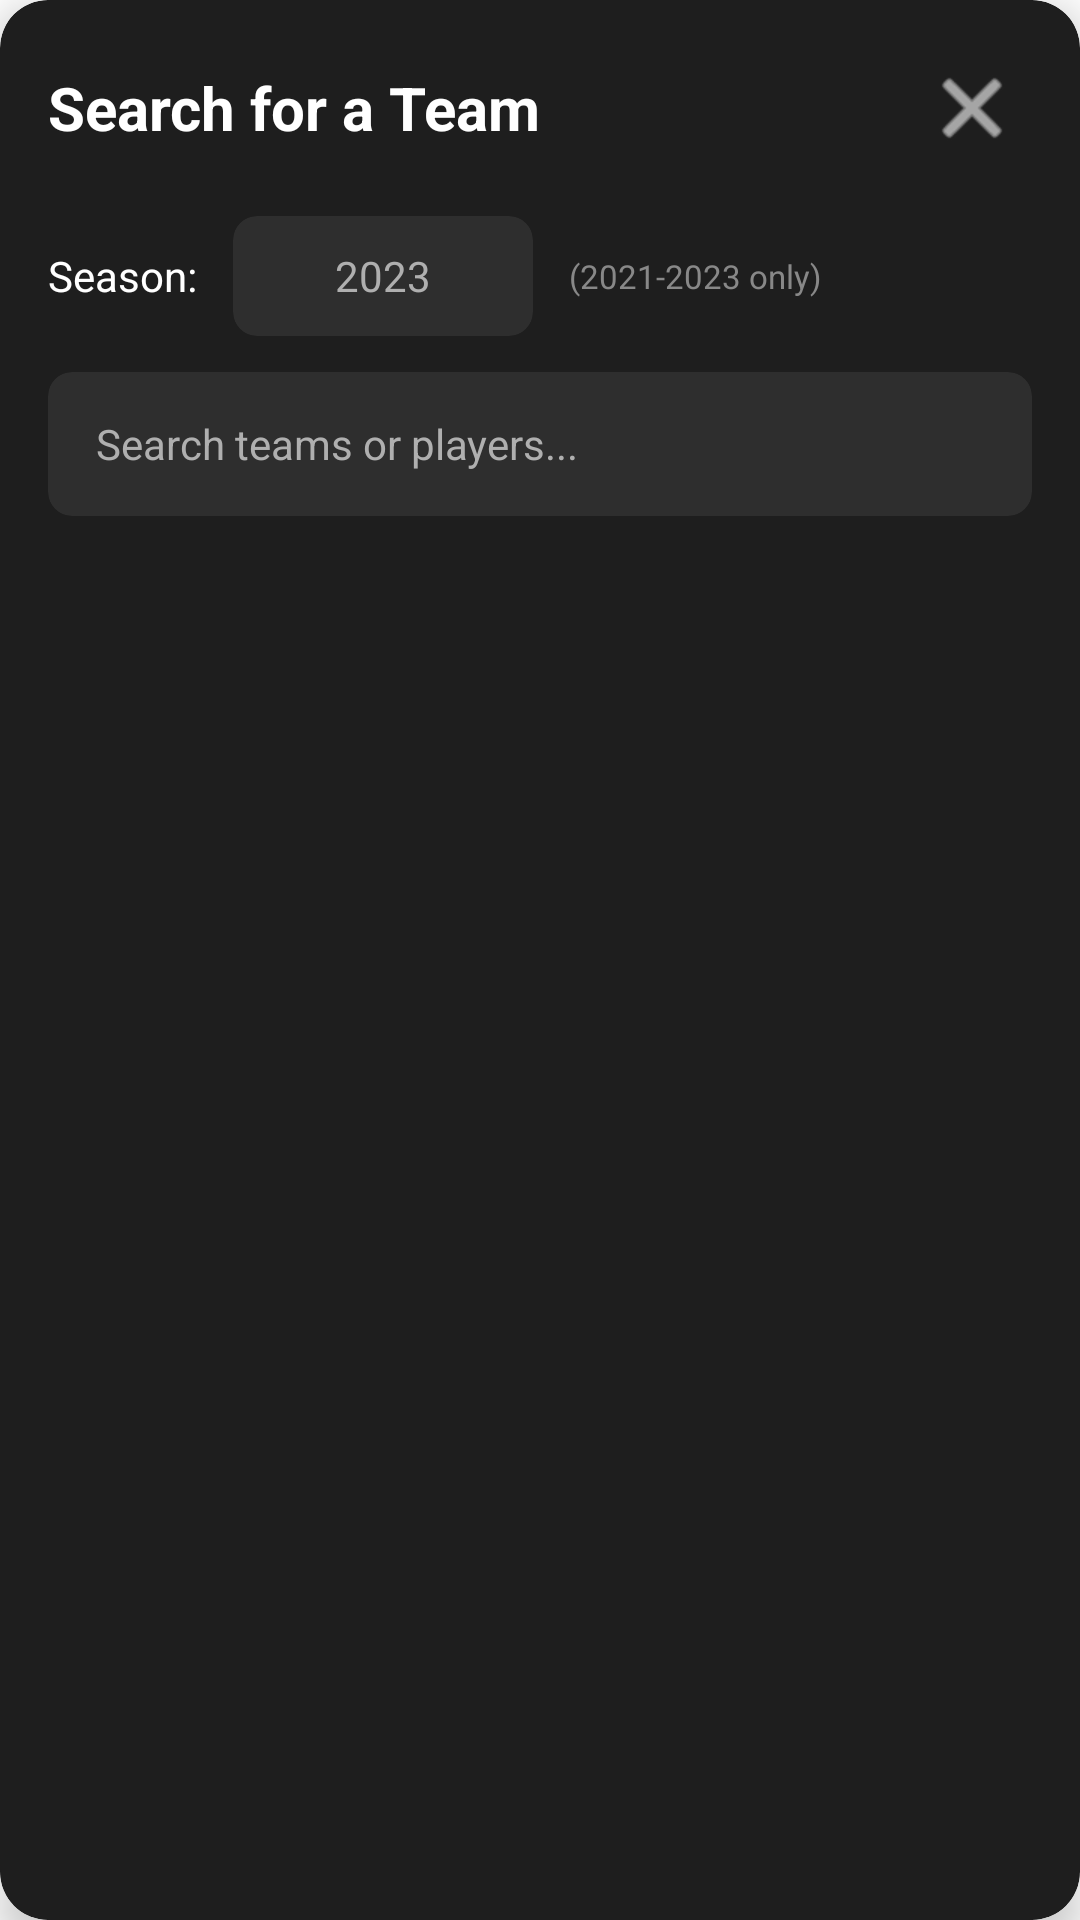

Icon bounding boxes for this 1080*1920 phone screenshot, format (x1, y1, x2, y2):
Close dialog: (942, 78, 1002, 138)
